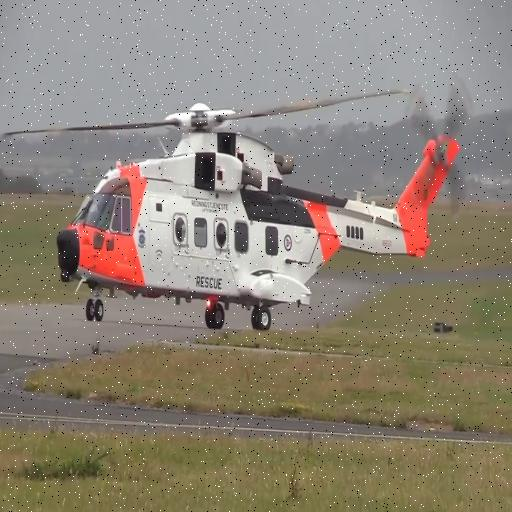helicopter: (5, 75, 472, 334)
